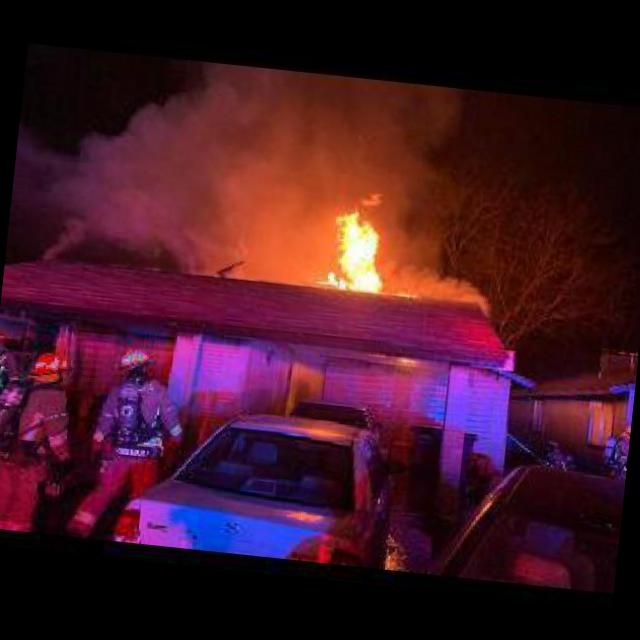fire: (316, 185, 426, 298)
